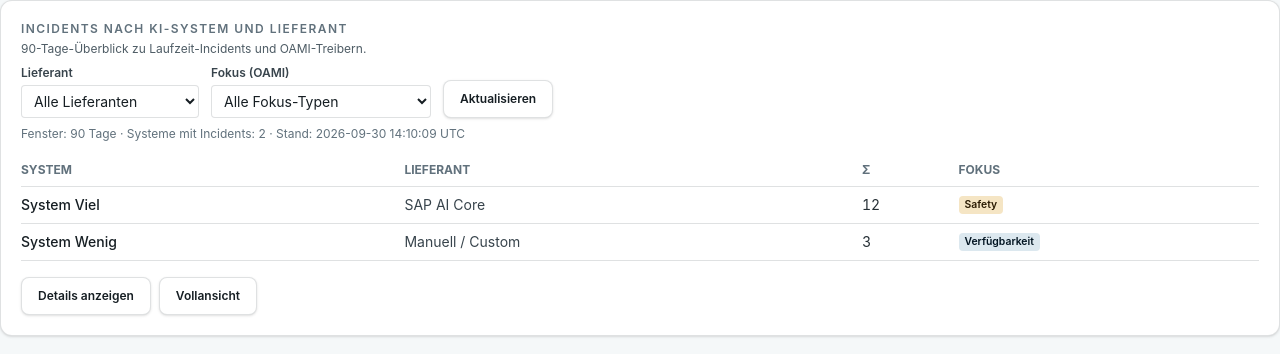
Test: AdvisorIncidentDrilldownPanel › filters by OAMI focus (safety-dominant)
Select "Safety-dominant" in the dropdown with test id "advisor-drilldown-filter-focus" at {"x": 321, "y": 102}, box top-left (211, 85), bottom-right (431, 118)
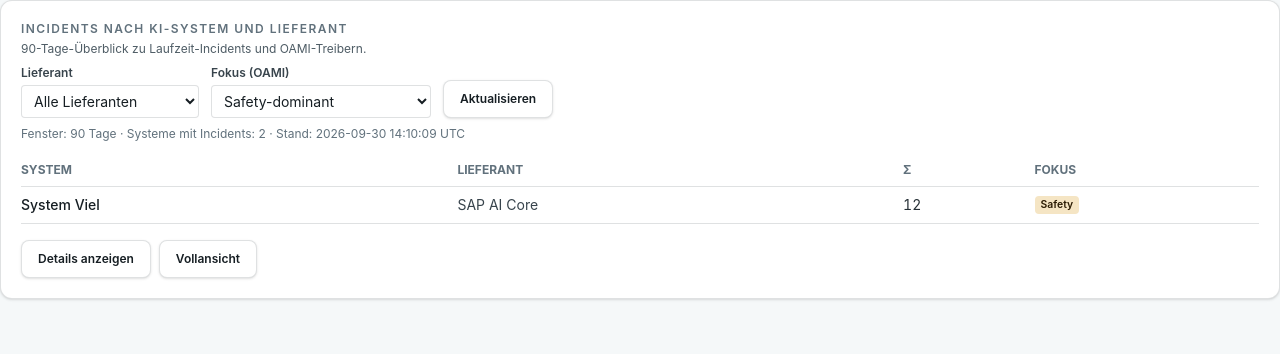
Expected: the text "System Viel" is shown, top-left (21, 186), bottom-right (457, 224)
Expected: the text "System Wenig" is gone
